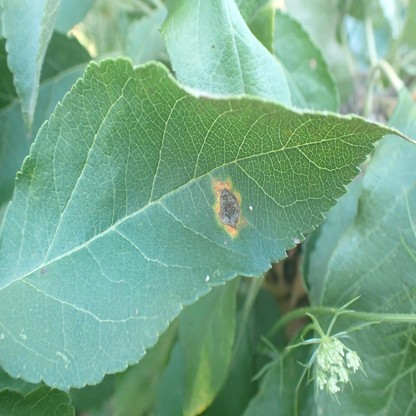rust: (211, 178, 243, 236)
